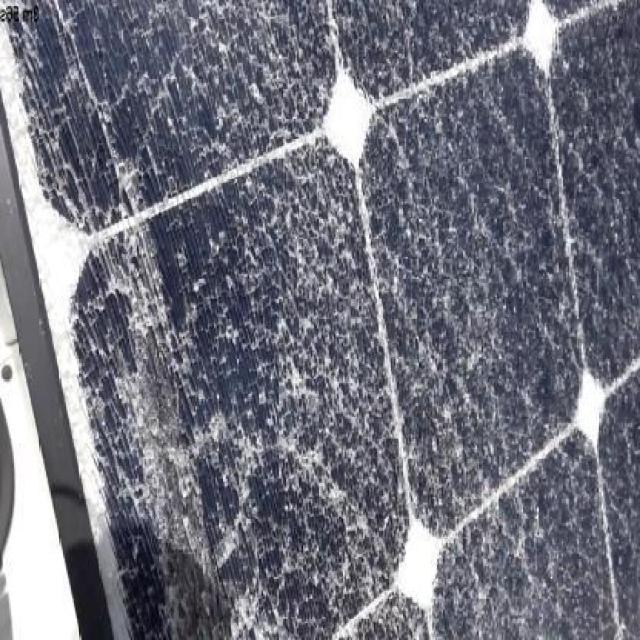cracked: (11, 3, 637, 637)
